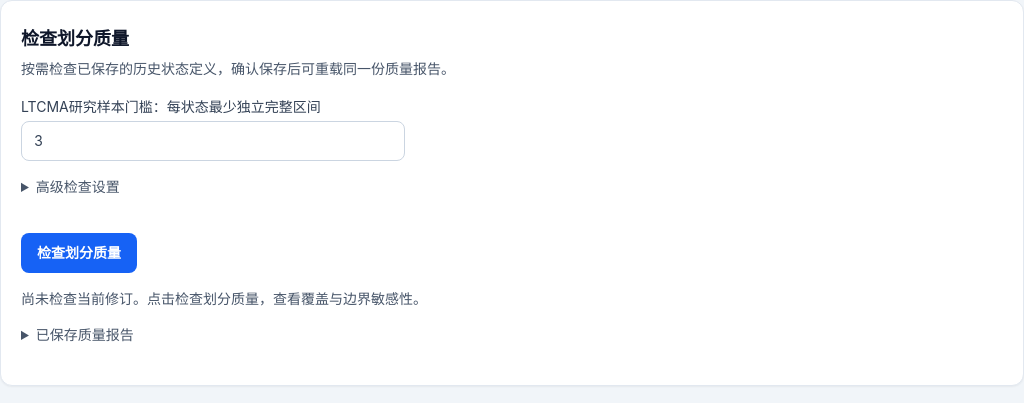
Test: 错误后可重试；拒绝其他修订报告
This screenshot has width=1024, height=403.
Click the button "检查划分质量" at (79, 253), box [21, 233, 137, 273]
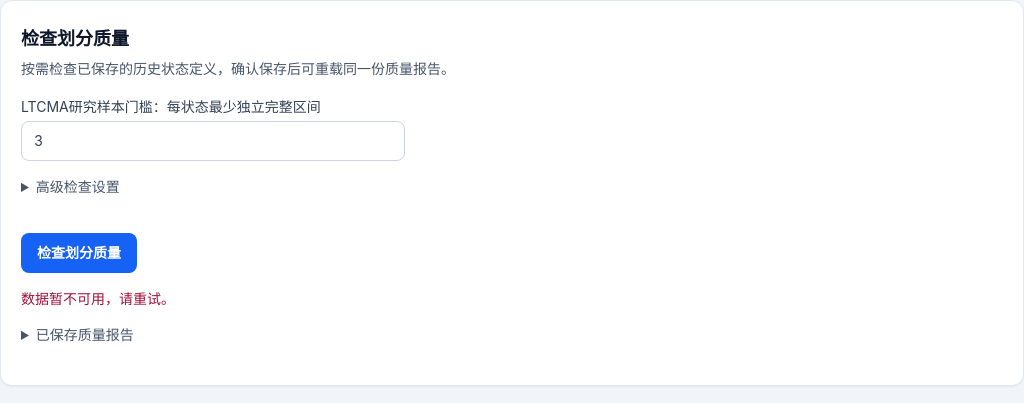
Expected: the message shows "数据暂不可用", [21, 290, 175, 307]
Click the button "检查划分质量" at (79, 253), box [21, 233, 137, 273]
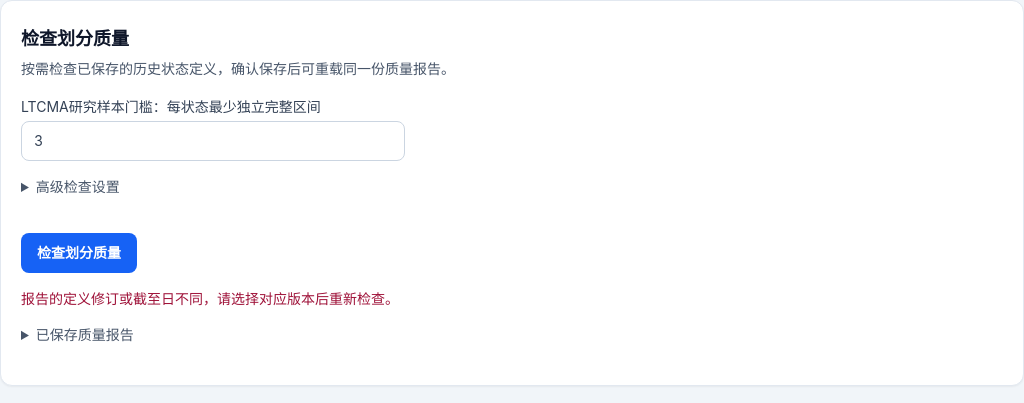
Expected: the message shows "报告的定义修订或截至日不同", [21, 290, 399, 307]
